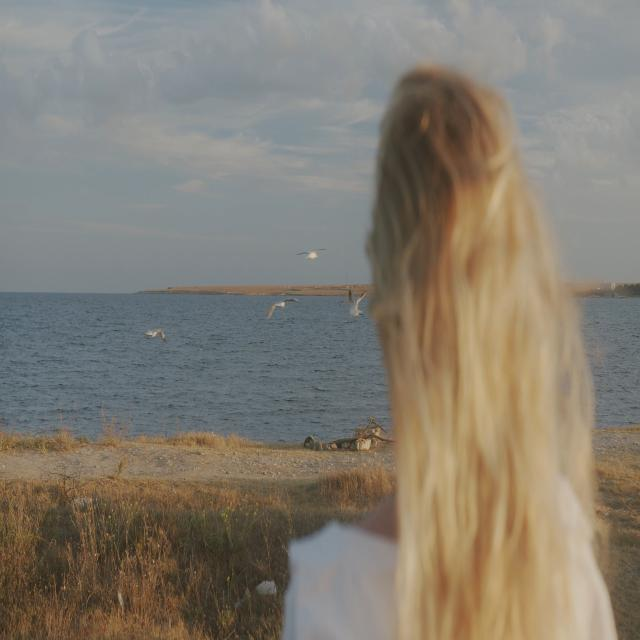bird: (288, 234, 332, 264), (262, 286, 303, 314), (339, 280, 368, 314), (138, 322, 172, 345)
